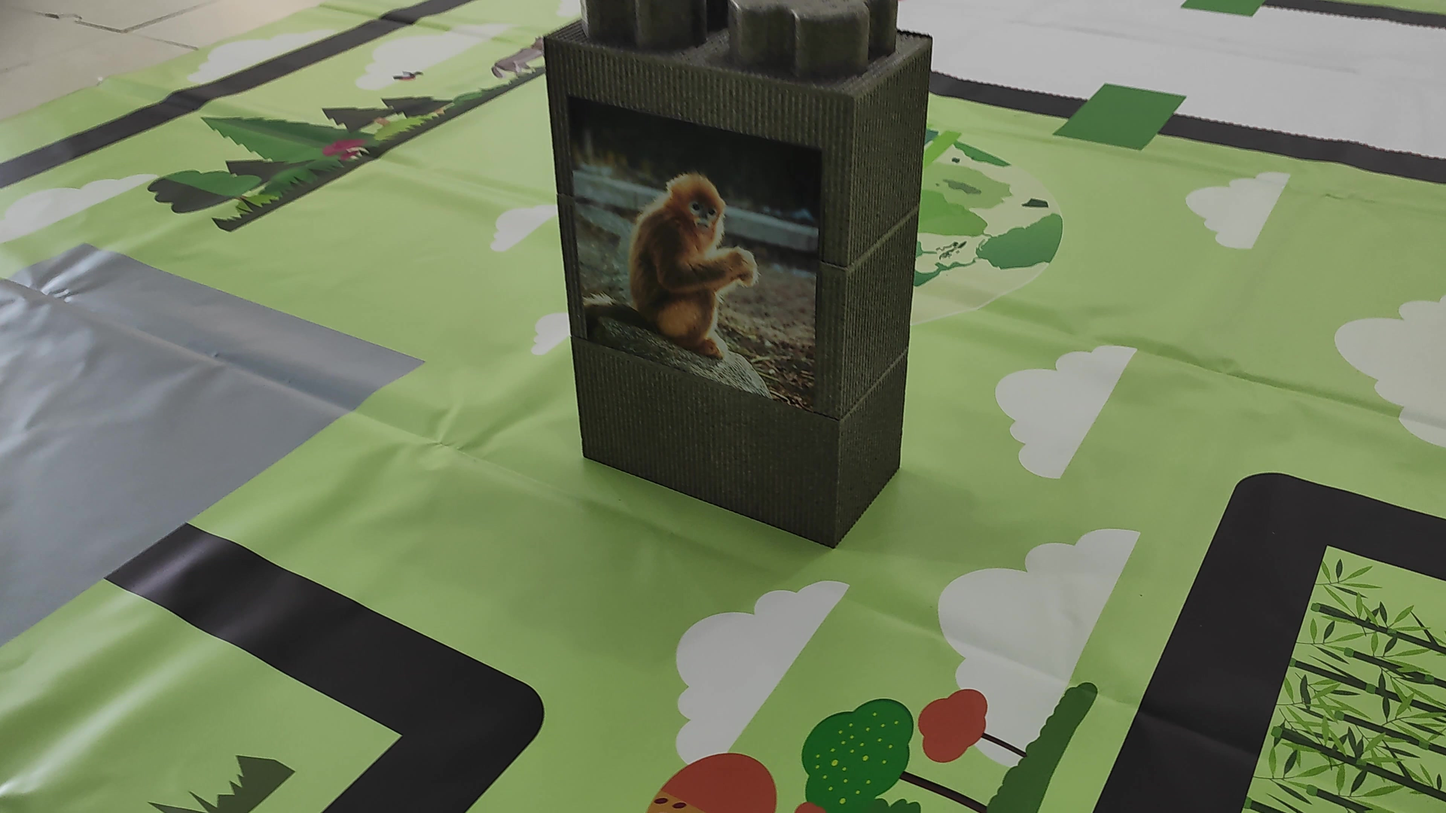monkey: (573, 116, 807, 359)
